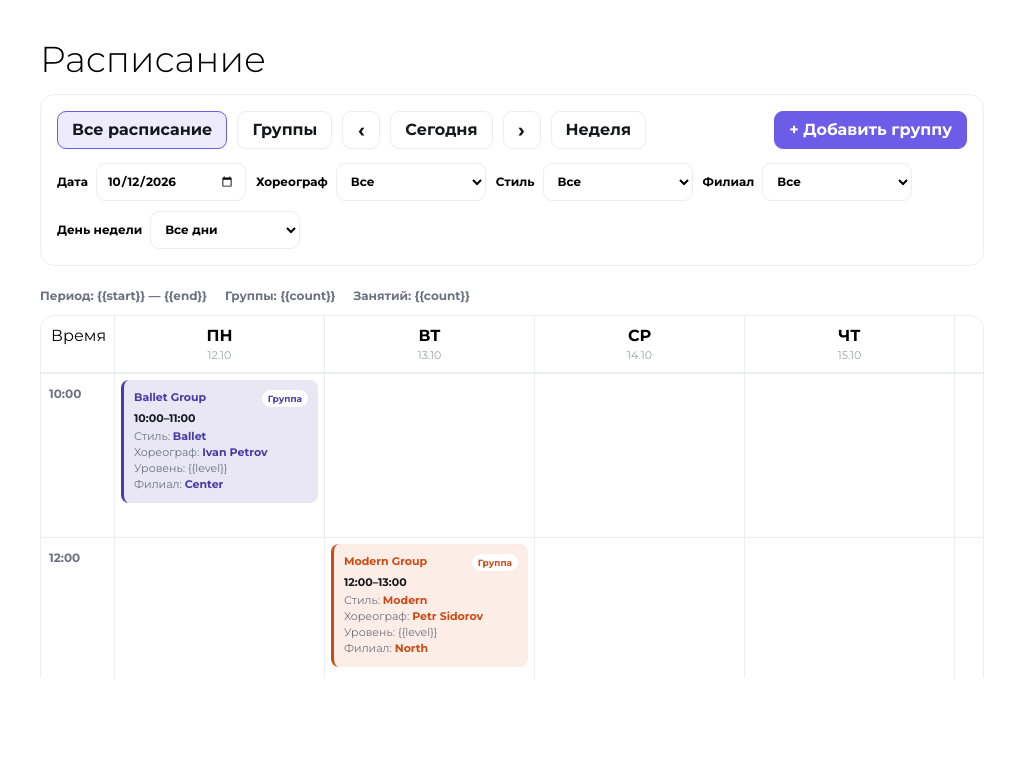
Test case: SchedulePage › filters lessons by choreographer
Check: the text "Ballet Group" is shown, box [134,390,206,404]
Check: the text "Modern Group" is shown, box [344,554,427,568]
Select "Ivan Petrov" in the dropdown labelled "Хореограф" at (411, 182), box [336,163,486,201]
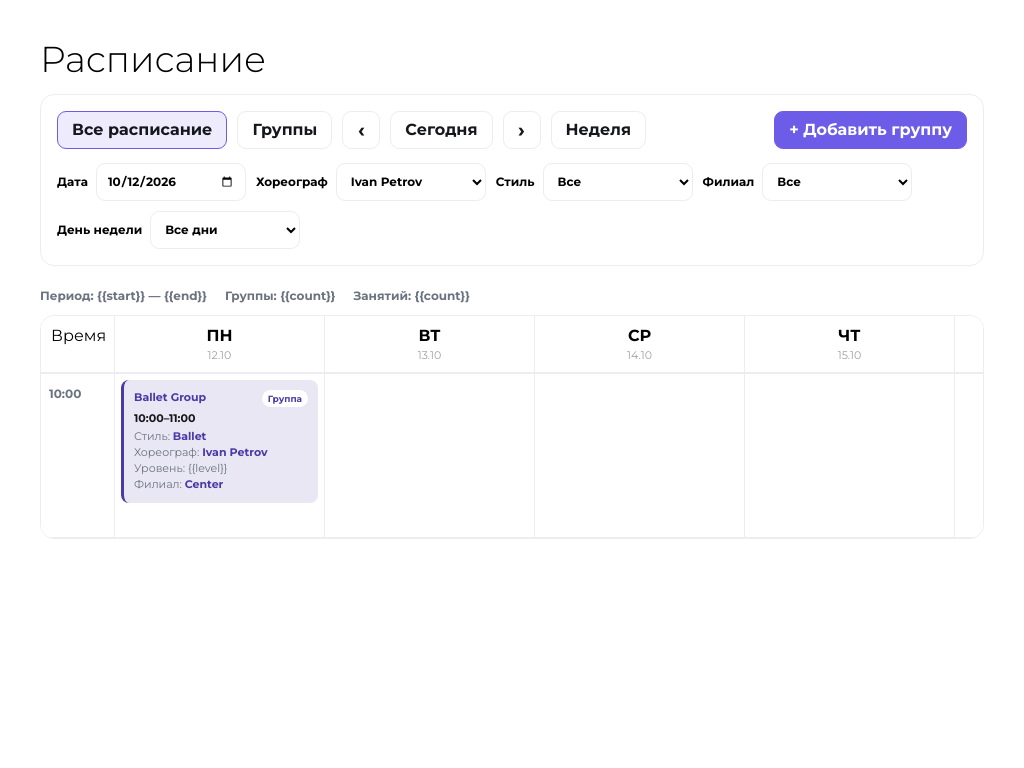
Check: the text "Ballet Group" is shown, box [134,390,206,404]
Check: the text "Modern Group" is gone
